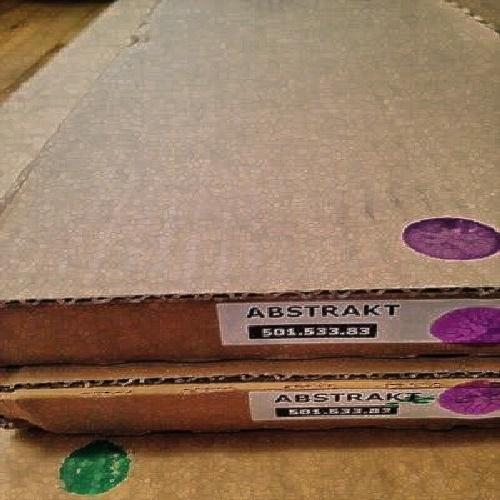cabinet: (20, 38, 496, 468)
